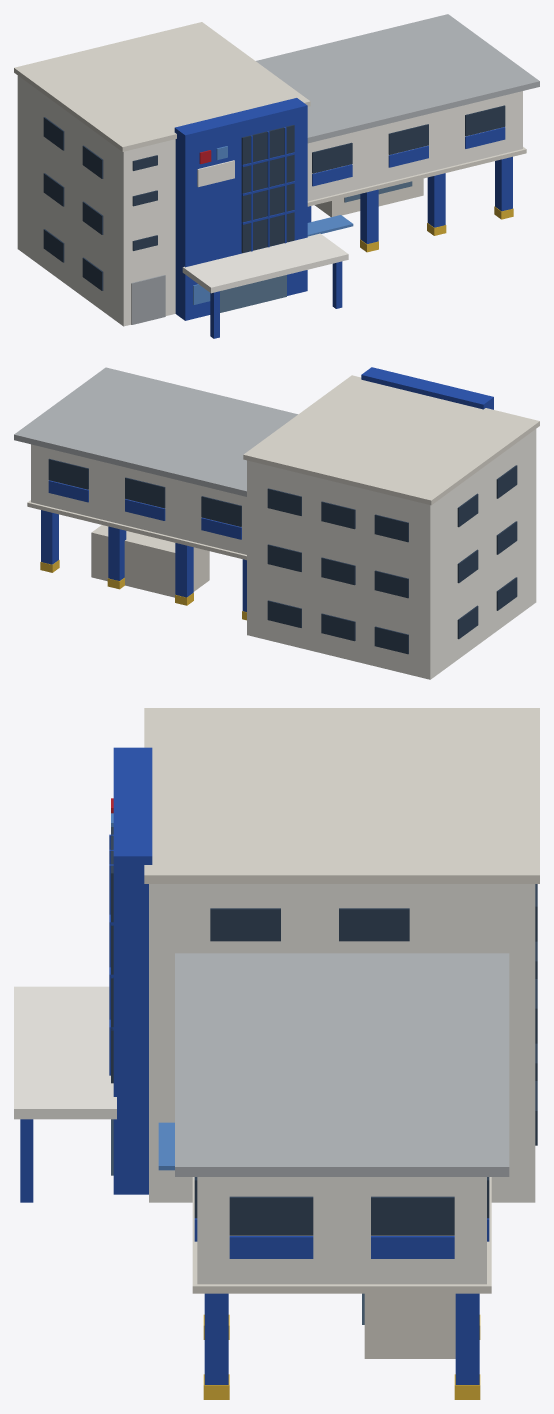
Rendered from LM_LTOCarmona.glb.
The picture shows the model from 3 angles, top to bottom: view 1: azimuth 30°, elevation 25°; view 2: azimuth 150°, elevation 25°; view 3: azimuth 270°, elevation 25°; orthographic projection. The views are drawn at different scales.
Visible parts, largest first — view 1: LM_LTOCarmona; view 2: LM_LTOCarmona; view 3: LM_LTOCarmona.
Boxes of the visible parts, x1,y1,x2,y2 form: LM_LTOCarmona: (14,14,539,338); LM_LTOCarmona: (14,367,539,679); LM_LTOCarmona: (14,708,539,1399).
Bounding box in the file's own units: 27.85 × 11.6 × 16.35.
